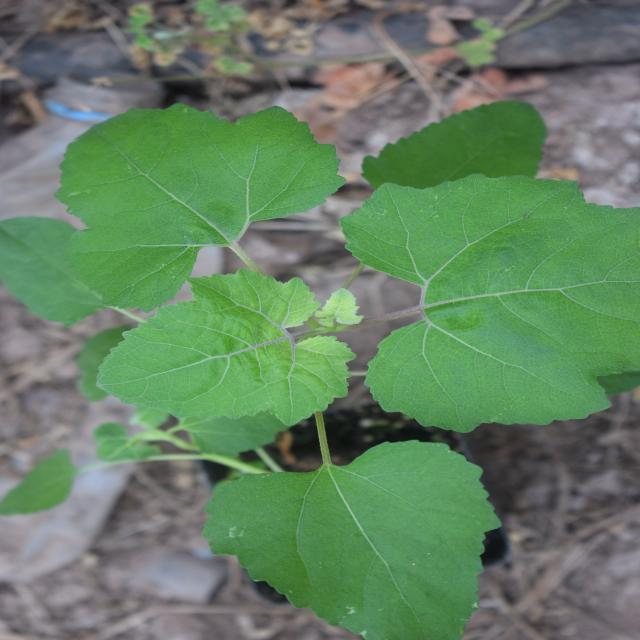cocklebur: (23, 53, 556, 625)
